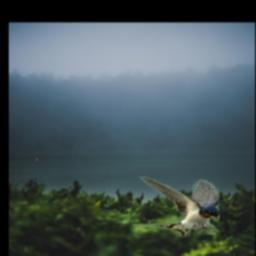Swallow: (133, 176, 219, 238)
